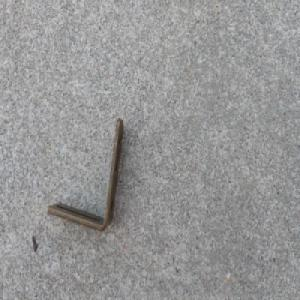MetalPart: (46, 116, 124, 233)
